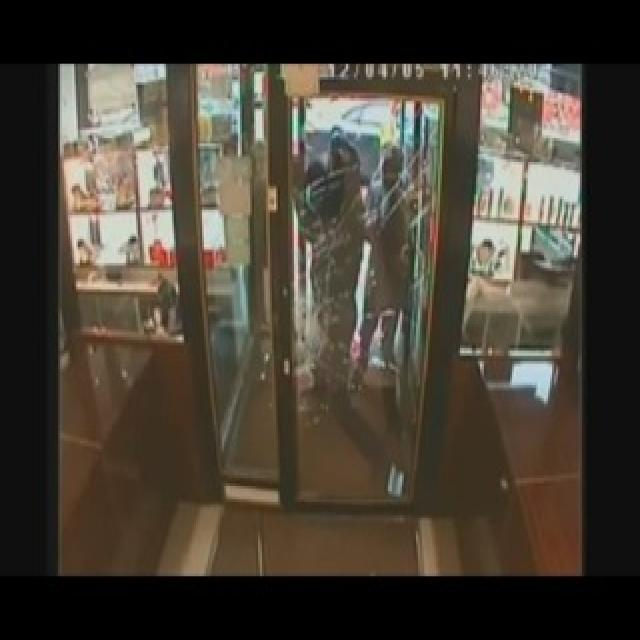burglary: (302, 113, 418, 411)
